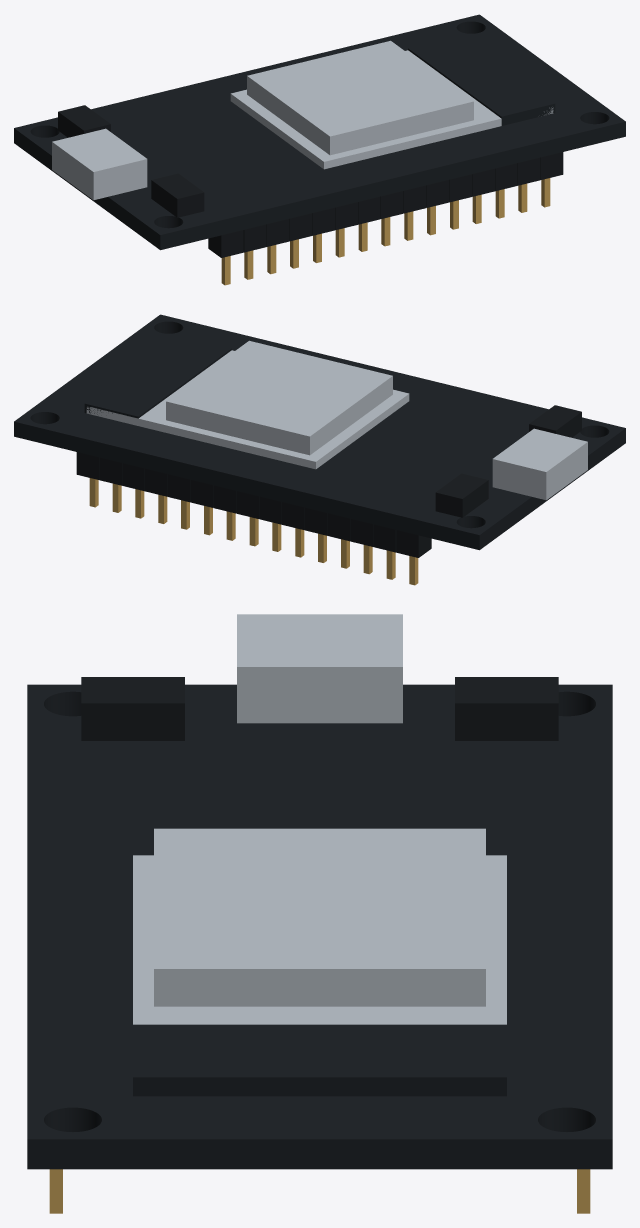
File: esp32.glb
3 renders of one model, top to bottom at view 1: azimuth 30°, elevation 25°; view 2: azimuth 150°, elevation 25°; view 3: azimuth 270°, elevation 25°, orthographic. The views are drawn at different scales.
Parts seen in each view (by area): view 1: esp32; view 2: esp32; view 3: esp32.
Part boxes in pixels (x1,y1,x2,y2): esp32: [14, 14, 625, 285]; esp32: [14, 314, 625, 585]; esp32: [27, 614, 612, 1213].
Bounding box in the file's own units: 53.4 × 10.6 × 28.2.
